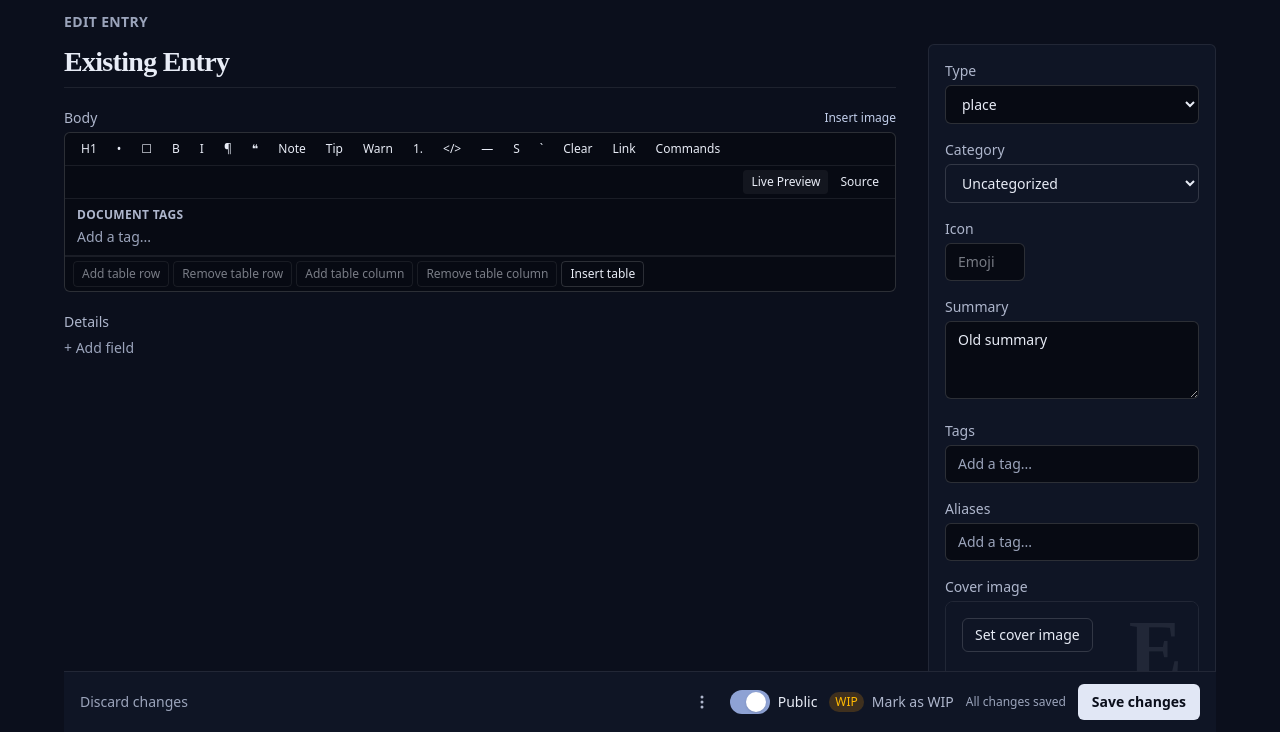
EntryEditor save status › reports a freshly loaded entry as saved, then flags a typed edit as unsaved
Expected: the message reads "All changes saved", [966,693,1066,710]
In the text box labelled "Summary": (1072, 360) [945,321,1199,399], type " plus more"
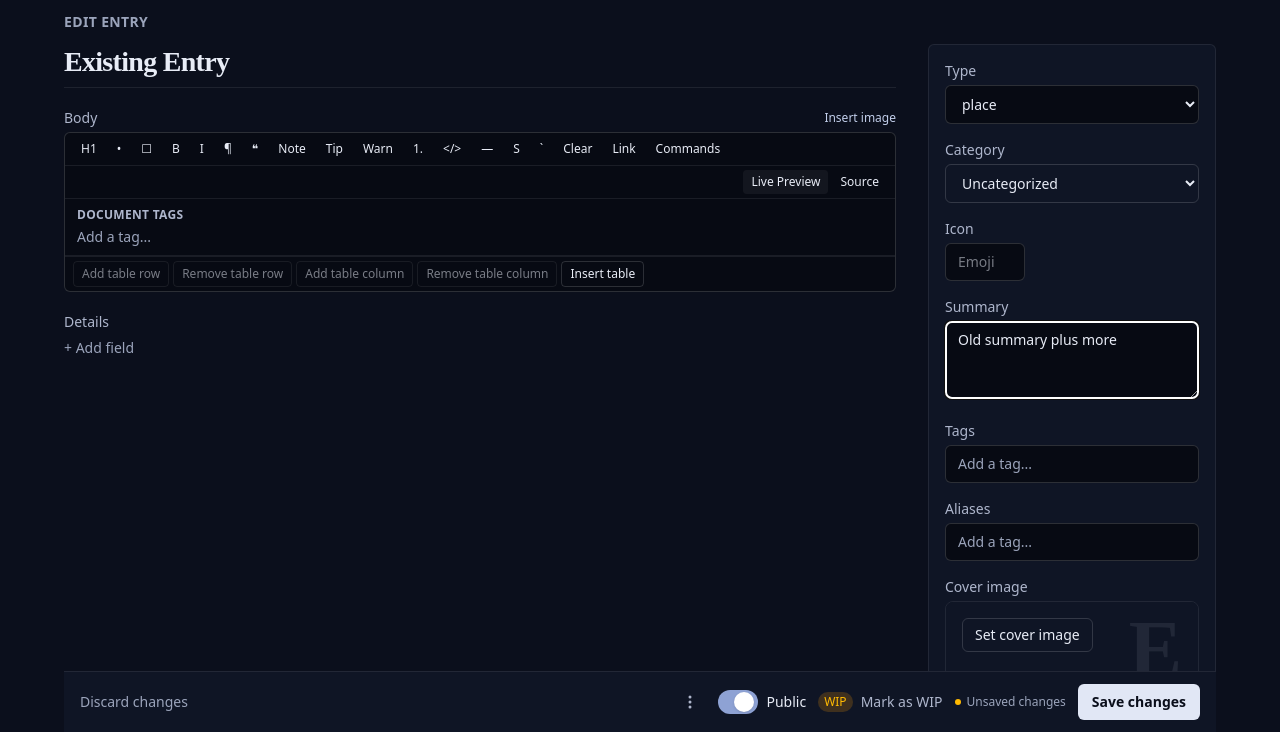
Expected: the message reads "Unsaved changes", [966,693,1066,710]
